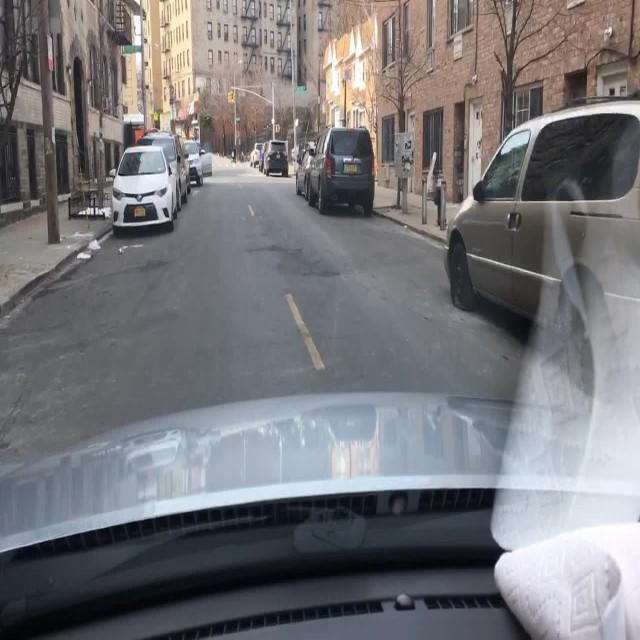normal: (429, 93, 640, 412), (112, 125, 219, 257), (287, 110, 386, 233)
